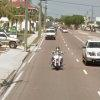Motorcycle: (44, 44, 72, 76)
